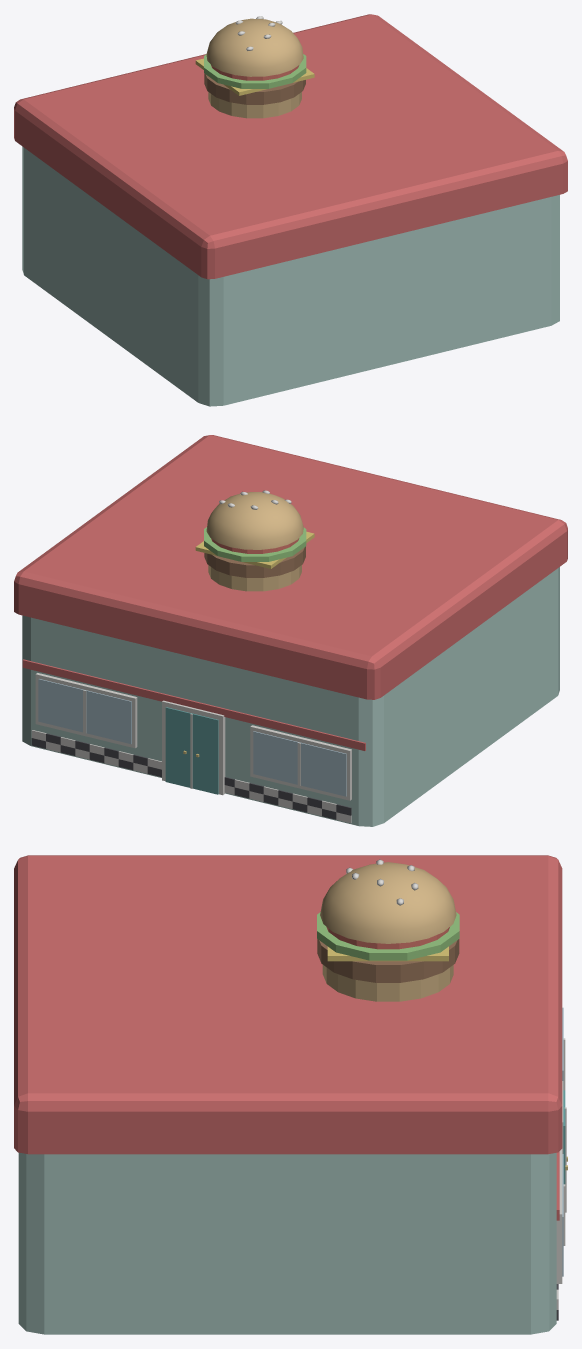
The model's file is centro-hamburgueria-3911eb78.glb.
3 views of the same model, one above another, from view 1: azimuth 30°, elevation 25°; view 2: azimuth 150°, elevation 25°; view 3: azimuth 270°, elevation 25° (orthographic). The views are drawn at different scales.
Visible parts, largest first — view 1: centro_hamburgueria_body, centro_hamburgueria_glow; view 2: centro_hamburgueria_body, centro_hamburgueria_glow; view 3: centro_hamburgueria_body, centro_hamburgueria_glow.
Boxes of the visible parts, x1=… form: centro_hamburgueria_body: x1=14, y1=14, x2=567, y2=406; centro_hamburgueria_glow: x1=195, y1=16, x2=314, y2=118; centro_hamburgueria_body: x1=14, y1=435, x2=567, y2=826; centro_hamburgueria_glow: x1=195, y1=490, x2=314, y2=591; centro_hamburgueria_body: x1=14, y1=855, x2=567, y2=1334; centro_hamburgueria_glow: x1=317, y1=859, x2=459, y2=1001.
Size of the model in its own units: 12.6 by 8.06 by 11.84.
